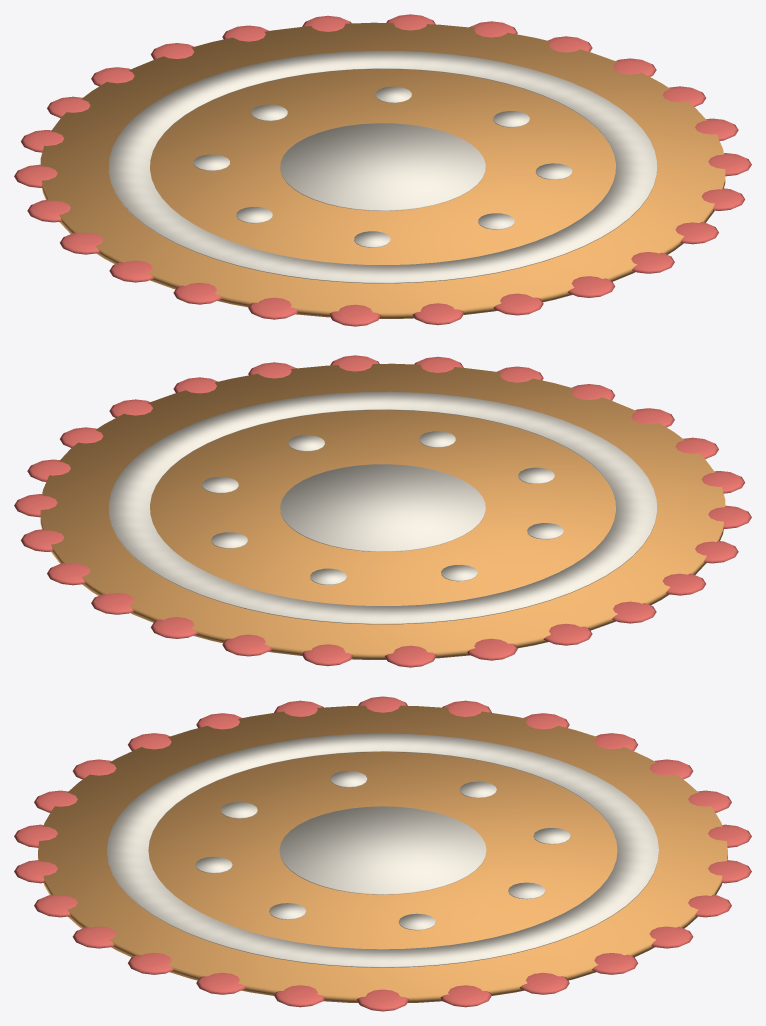
File: round-rug.glb
3 renders of one model, top to bottom at view 1: azimuth 30°, elevation 25°; view 2: azimuth 150°, elevation 25°; view 3: azimuth 270°, elevation 25°, orthographic.
Parts seen in each view (by area): view 1: rug; view 2: rug; view 3: rug.
Part boxes in pixels (left/top/right/bottom): rug: left=14, top=14, right=751, bottom=326; rug: left=14, top=355, right=751, bottom=667; rug: left=14, top=696, right=751, bottom=1011.
Size of the model in its own units: 2.8 by 0.034 by 2.78.
